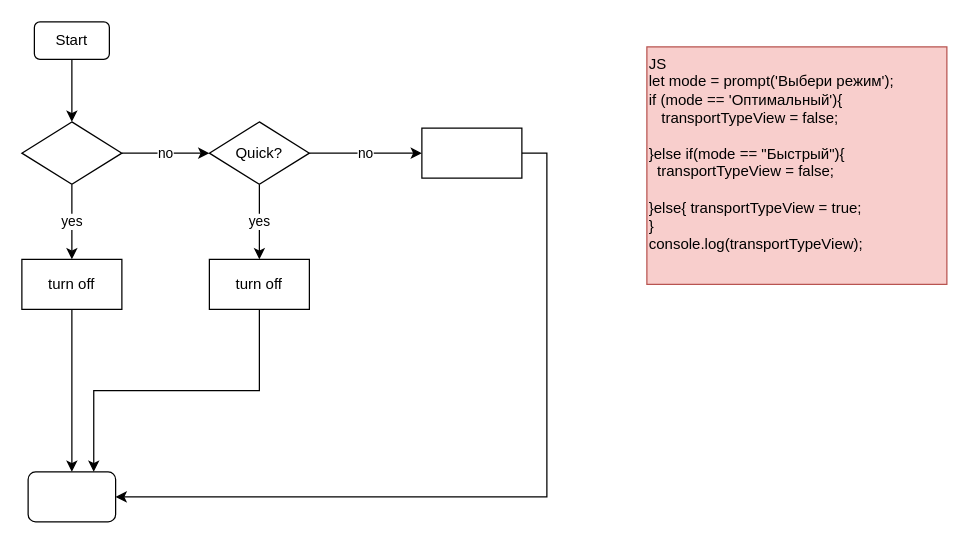
Some shapes in this 969 by 544 pixel diagram are drawn without their labels. The shapes that lost their labels are listed below. From the top down, each one's box as (x1, y1, x2, y2) in pixels, then its label:
(21, 121, 122, 184): Optima;?
(421, 127, 522, 178): turn on
(27, 471, 116, 522): The end
